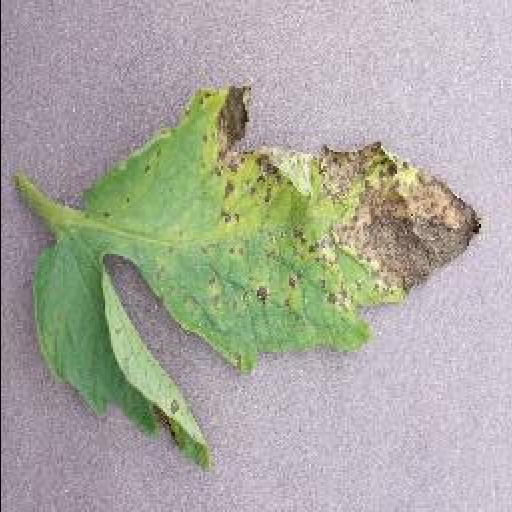disease_tomato: (30, 88, 478, 470)
